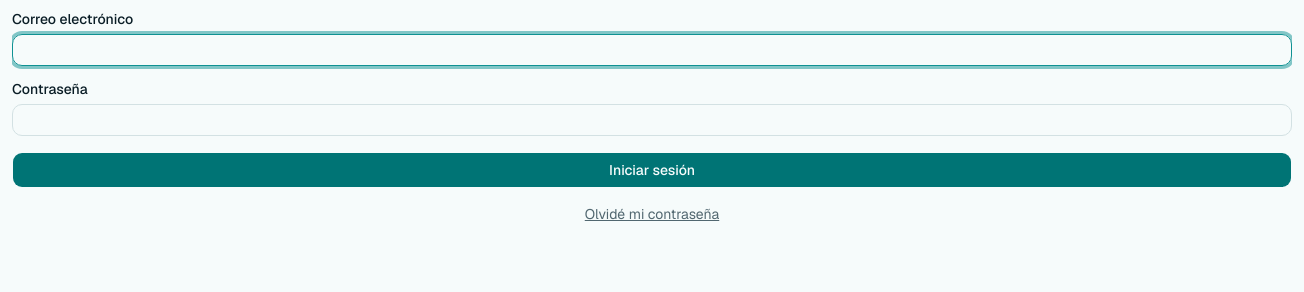
Scenario: LoginForm › traduce el error de Supabase {"message":"Invalid login credentials","code":"invalid_credentials"}
Type "dentista@demo.local" into the field labelled "Correo electrónico". click: (652, 50)
box: [12, 34, 1292, 66]
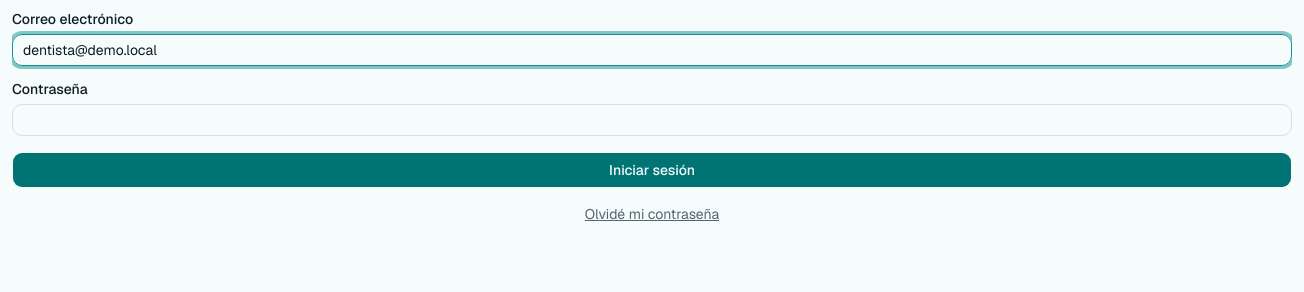
Type "mala" into the password field labelled "Contraseña". click: (652, 120)
box: [12, 104, 1292, 136]
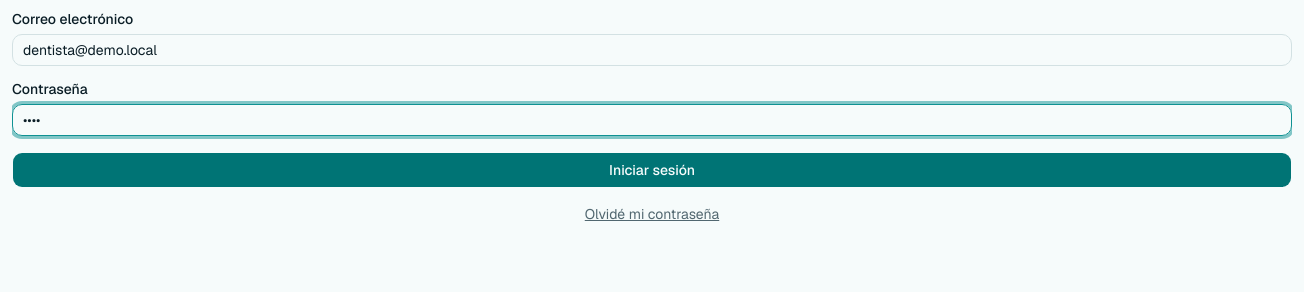
Click the button "Iniciar sesión". click: (652, 170)
box: [12, 152, 1292, 188]
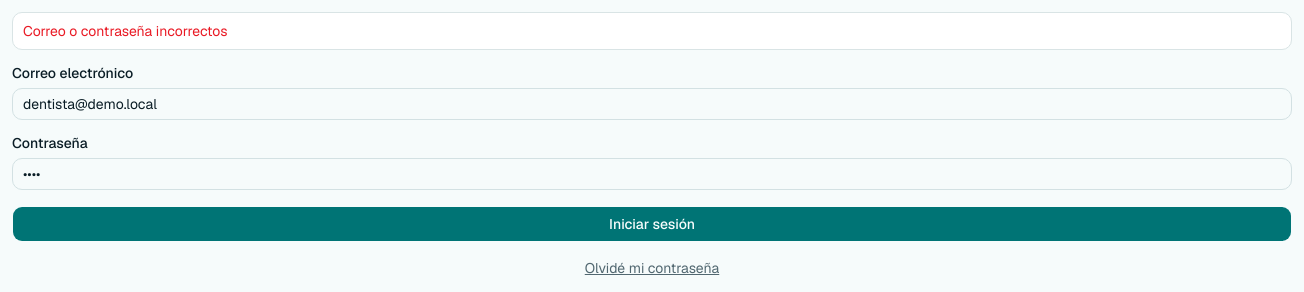
Check: the button "Iniciar sesión" is enabled, box [12, 206, 1292, 242]
Check: the text "Correo o contraseña incorrectos" is shown, box [23, 22, 228, 40]
